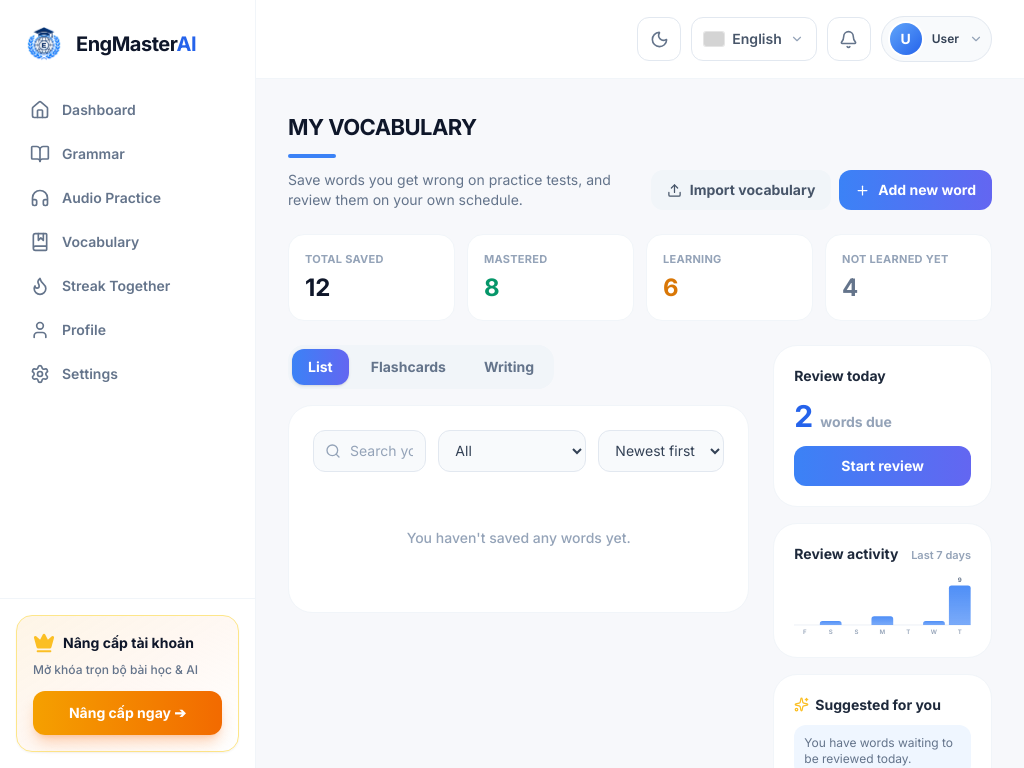
Test: MyVocabularyPage › switching to the Flashcards tab fetches every saved word and starts a session
This screenshot has width=1024, height=768.
Expected: the text "12" is shown, 305,272 -> 330,302
What coordinates should you click on to do the following:
click the tab "Flashcards"
I would click on:
 (408, 366)
Its box is 355,348 -> 462,384.
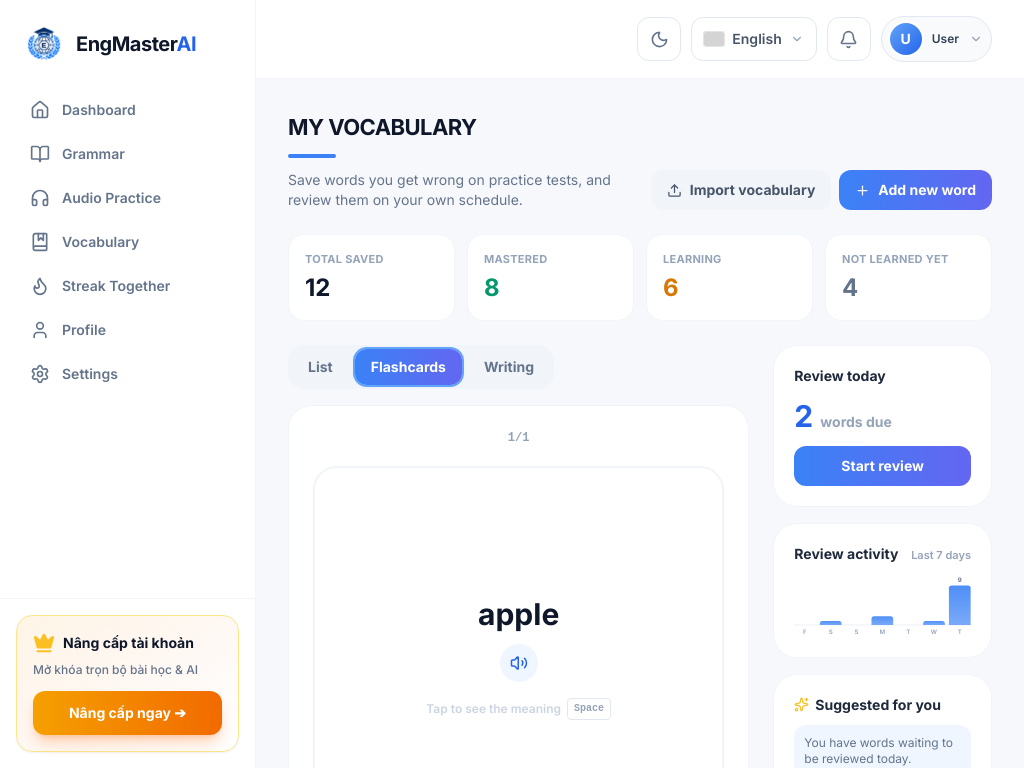
Expected: the text "apple" is shown, 478,596 -> 559,632
